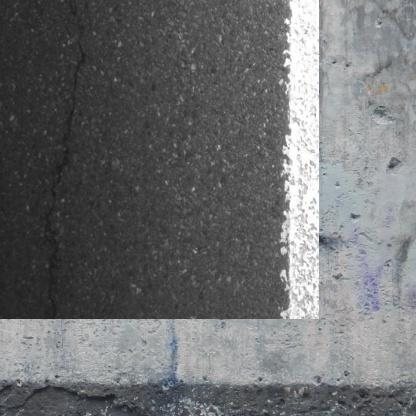Cracks: (39, 0, 83, 295)
